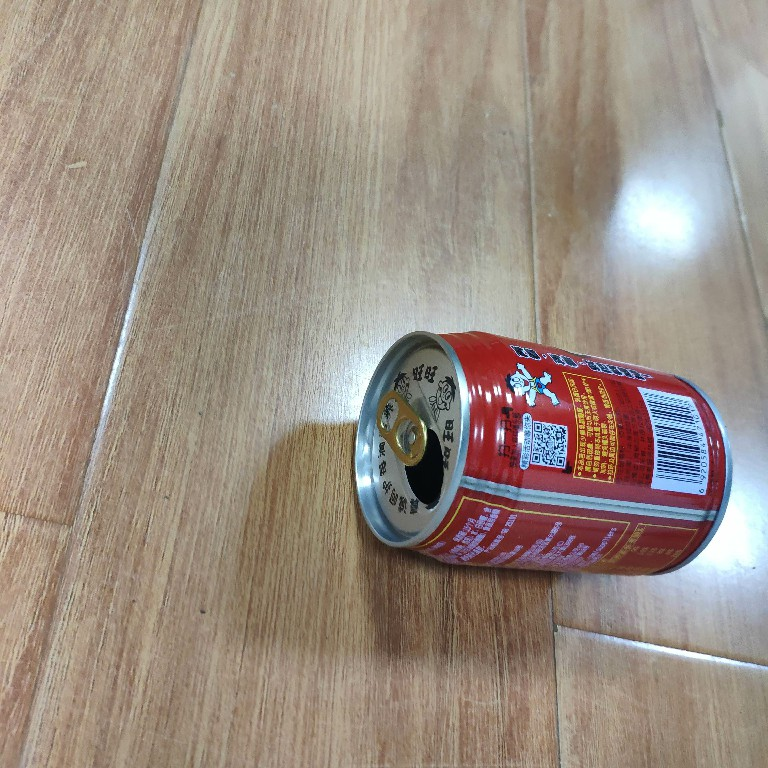can: (348, 326, 735, 580)
